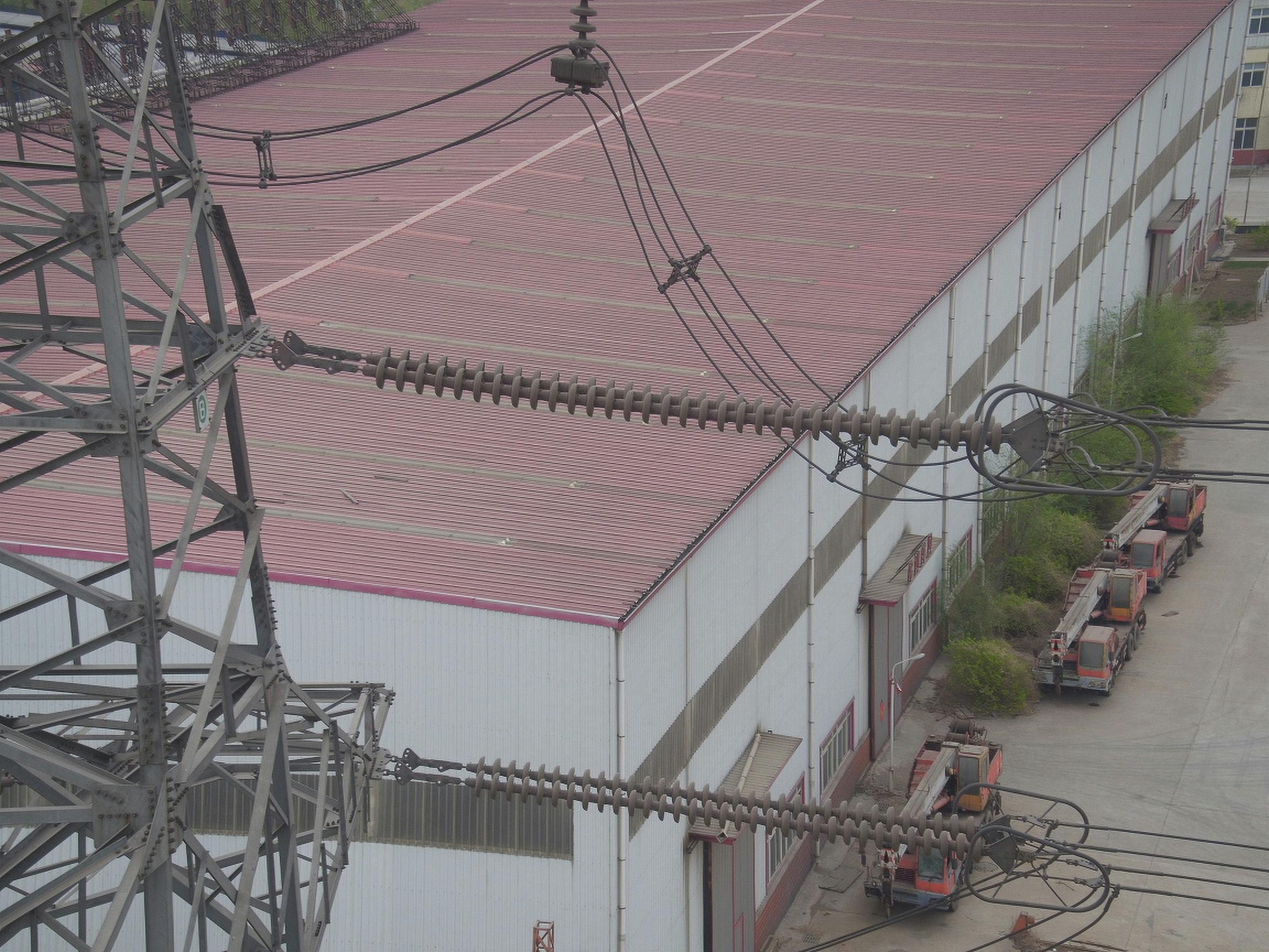insulator: (371, 343, 1005, 457), (471, 754, 986, 867)
